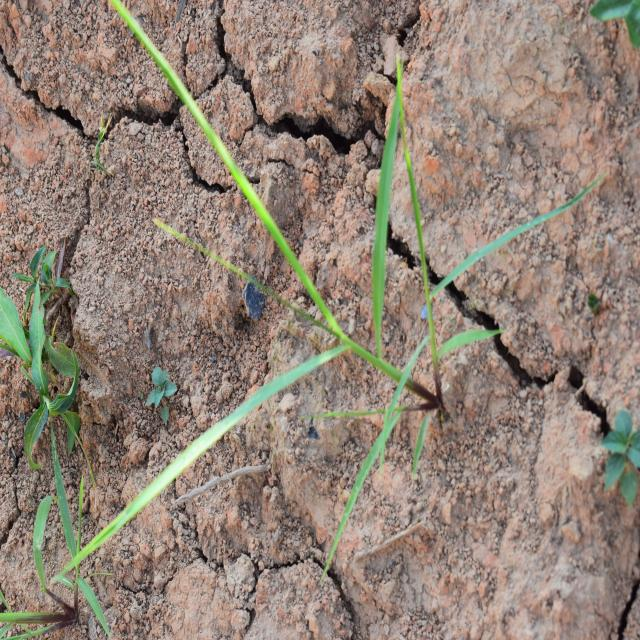green_foxtail: (111, 58, 501, 502)
